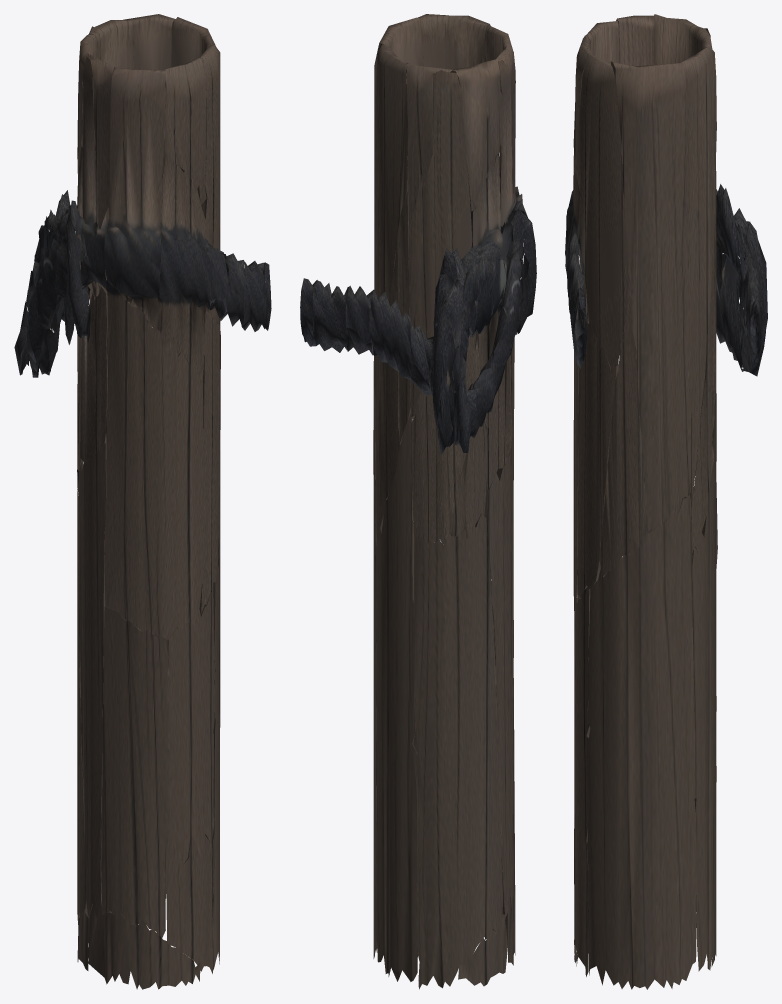
Rendered from kiyosumi_meshy_post.glb.
3 views of the same model, side by side, from view 1: azimuth 30°, elevation 25°; view 2: azimuth 150°, elevation 25°; view 3: azimuth 270°, elevation 25° (orthographic).
Parts seen in each view (by area): view 1: KiyosumiTexturedPost; view 2: KiyosumiTexturedPost; view 3: KiyosumiTexturedPost.
Part boxes in pixels (x1,y1,x2,y2): KiyosumiTexturedPost: [14, 14, 271, 989]; KiyosumiTexturedPost: [300, 14, 536, 989]; KiyosumiTexturedPost: [565, 14, 767, 989].
Bounding box in the file's own units: 0.12 × 0.5992 × 0.1196.
Materials: 1 (1 with a texture image).
